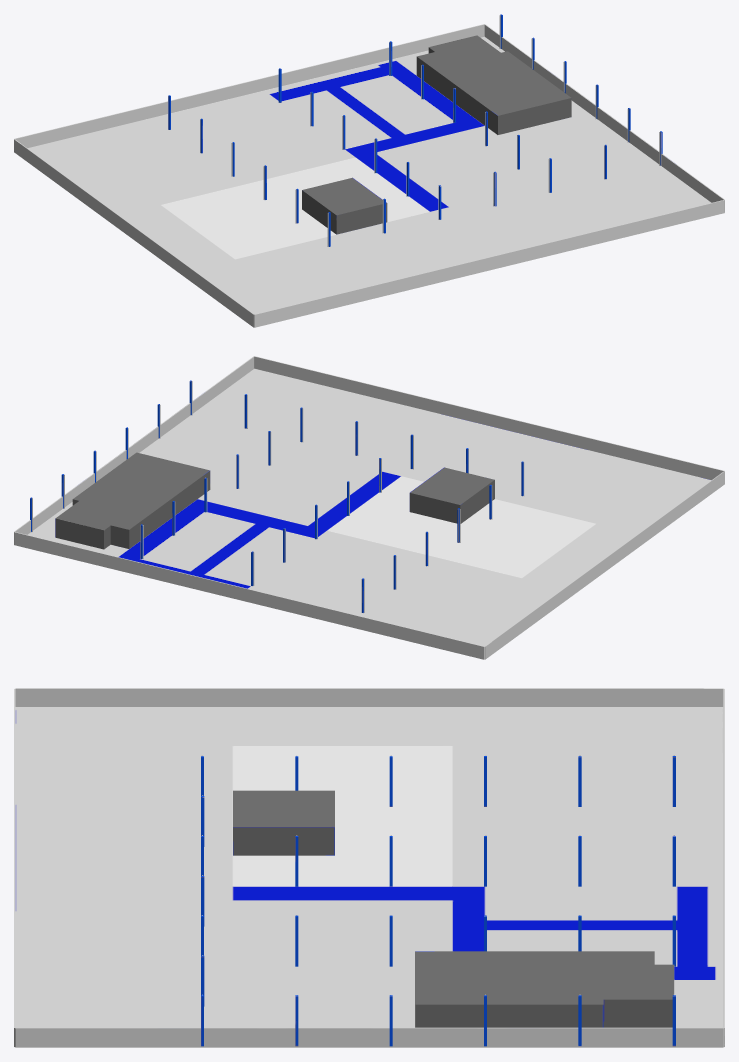
Rendered from TOFAS_without_markets.dae.
The picture shows the model from 3 angles, top to bottom: view 1: azimuth 30°, elevation 25°; view 2: azimuth 150°, elevation 25°; view 3: azimuth 270°, elevation 25°; orthographic projection. The views are drawn at different scales.
Visible parts, largest first — view 1: simple; view 2: simple; view 3: simple.
Part boxes in pixels (x1,y1,x2,y2): simple: (14,14,724,327); simple: (14,356,724,659); simple: (14,688,724,1047).
Bounding box in the file's own units: 102 × 90.4 × 7.18.
Materials: 6 (6 with a texture image).
